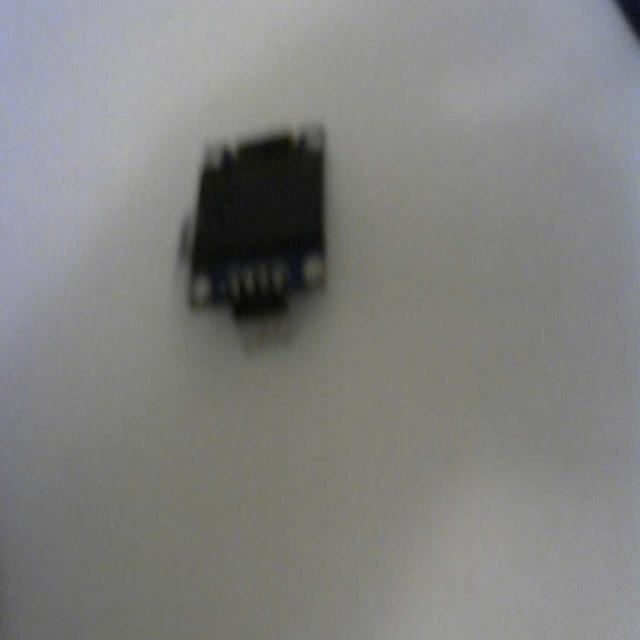oled: (172, 121, 333, 361)
